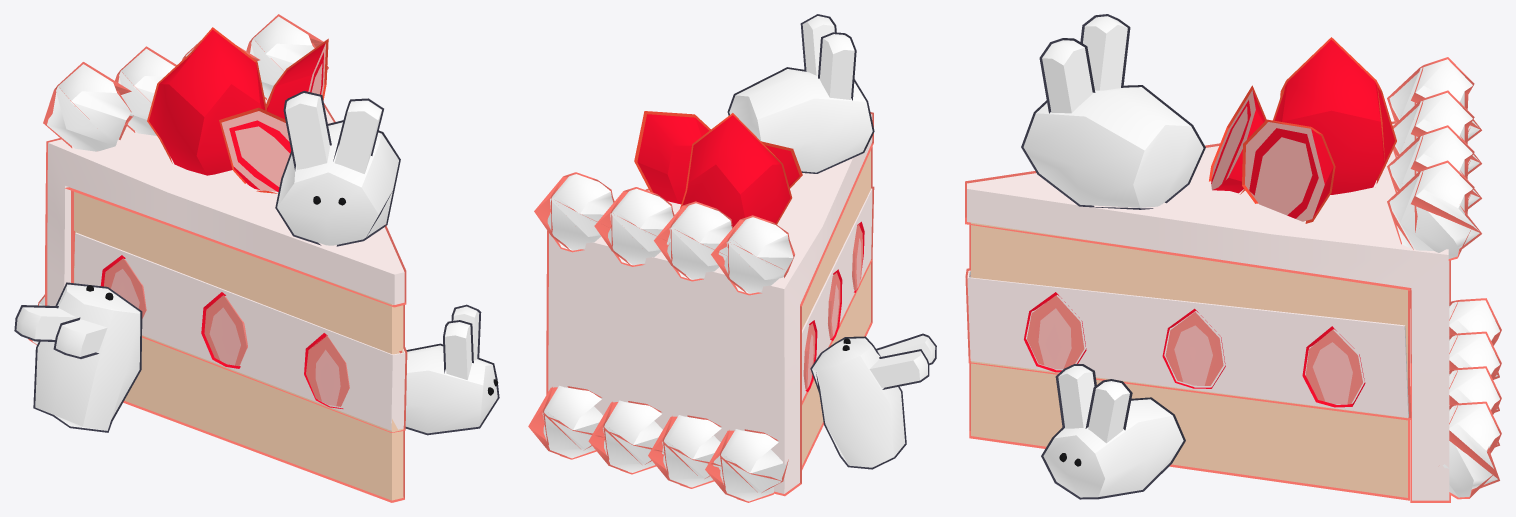
Rendered from cake_time-v1.glb.
The picture shows the model from 3 angles, left to right: view 1: azimuth 30°, elevation 25°; view 2: azimuth 150°, elevation 25°; view 3: azimuth 270°, elevation 25°; orthographic projection. The views are drawn at different scales.
Parts seen in each view (by area): view 1: whole_berry2_lambert15_0, whole_berry2_lambert20_0; view 2: whole_berry2_lambert15_0, whole_berry2_lambert20_0; view 3: whole_berry2_lambert15_0, whole_berry2_lambert20_0.
Boxes of the visible parts, box(x1,y1,x2,y2) form: whole_berry2_lambert15_0: box(16, 16, 498, 500); whole_berry2_lambert20_0: box(14, 14, 499, 502); whole_berry2_lambert15_0: box(542, 16, 935, 501); whole_berry2_lambert20_0: box(528, 14, 936, 502); whole_berry2_lambert15_0: box(967, 16, 1499, 500); whole_berry2_lambert20_0: box(965, 14, 1501, 502).
Size of the model in its own units: 2.65 by 2.48 by 2.94.
Materials: 3 (3 with a texture image).
